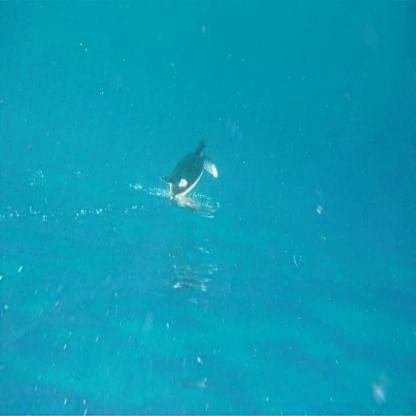misc: (158, 134, 222, 212)
